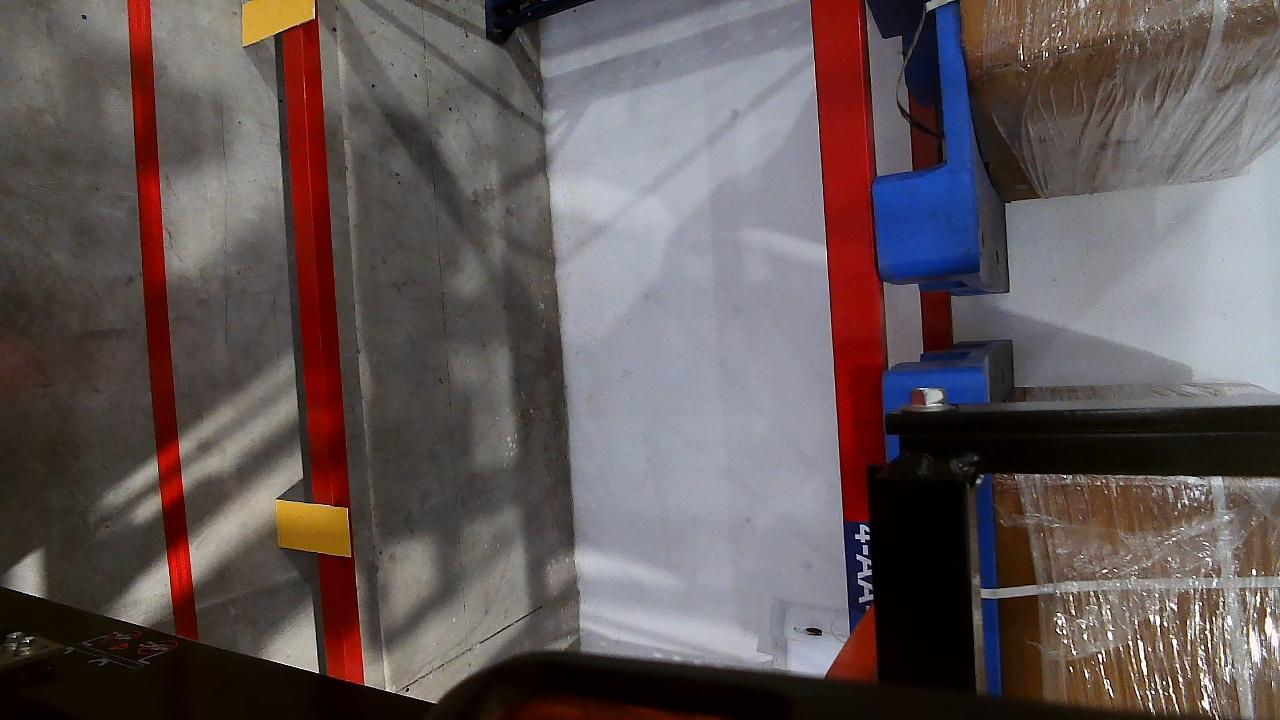h_rack: (282, 25, 367, 682), (808, 3, 888, 621)
orange_strip: (273, 500, 351, 557), (242, 0, 316, 45)
red_line: (127, 1, 188, 617)
small_pallet: (858, 0, 984, 271)
